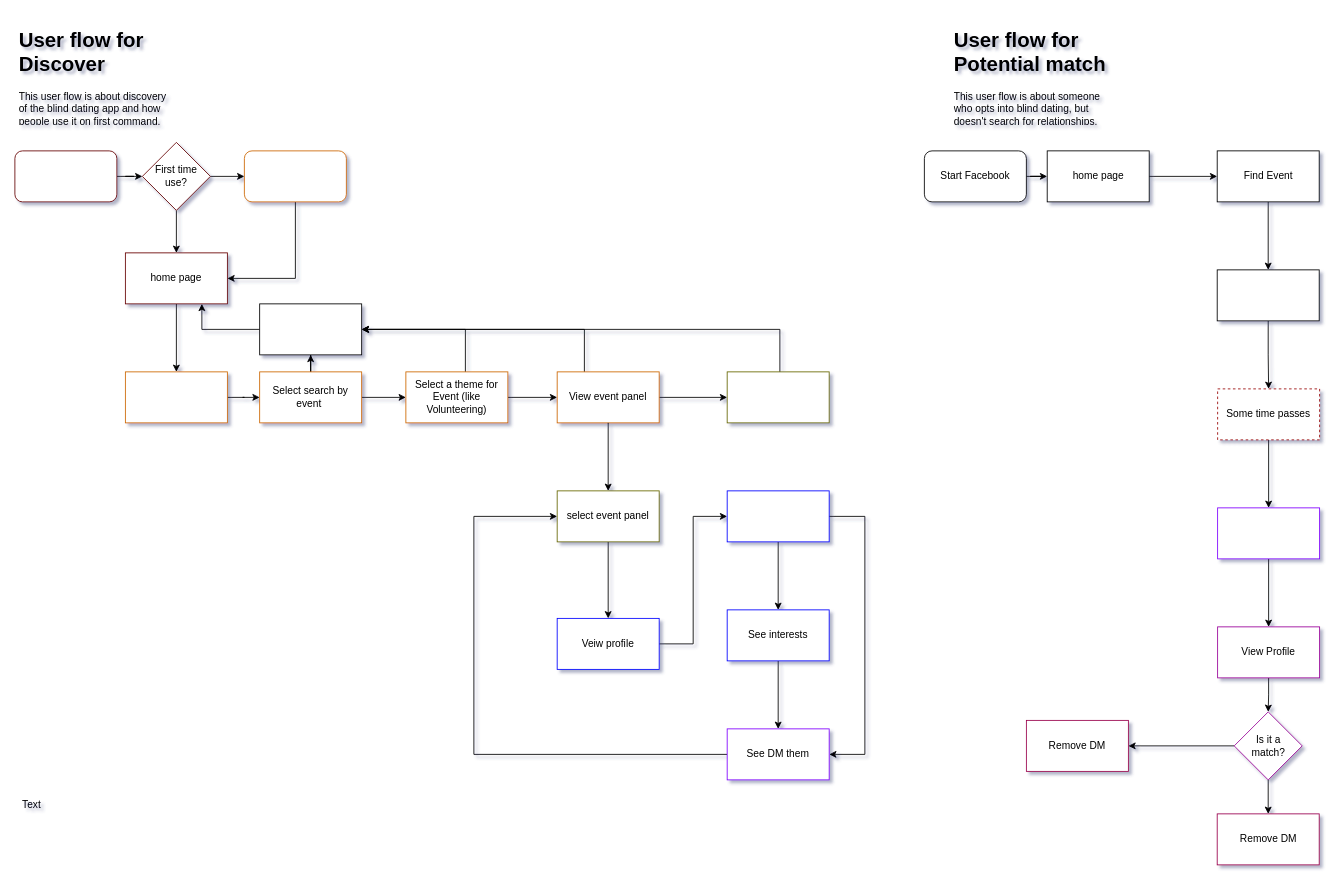
The diagram is 1340 pixels wide and 885 high, and some of its shapes have lost their labels. Each missing label, with the box of its shape:
Indicate interest: (1216, 269, 1319, 321)
Mark if interested in certain events: (726, 371, 829, 423)
Opt in protocal: (244, 150, 346, 202)
Return to home: (259, 303, 362, 355)
See voice recording: (726, 490, 829, 542)
Select Event Dating: (125, 371, 227, 423)
Start App: (14, 150, 117, 202)
They receive a DM from someone who found their profile: (1217, 507, 1320, 559)
